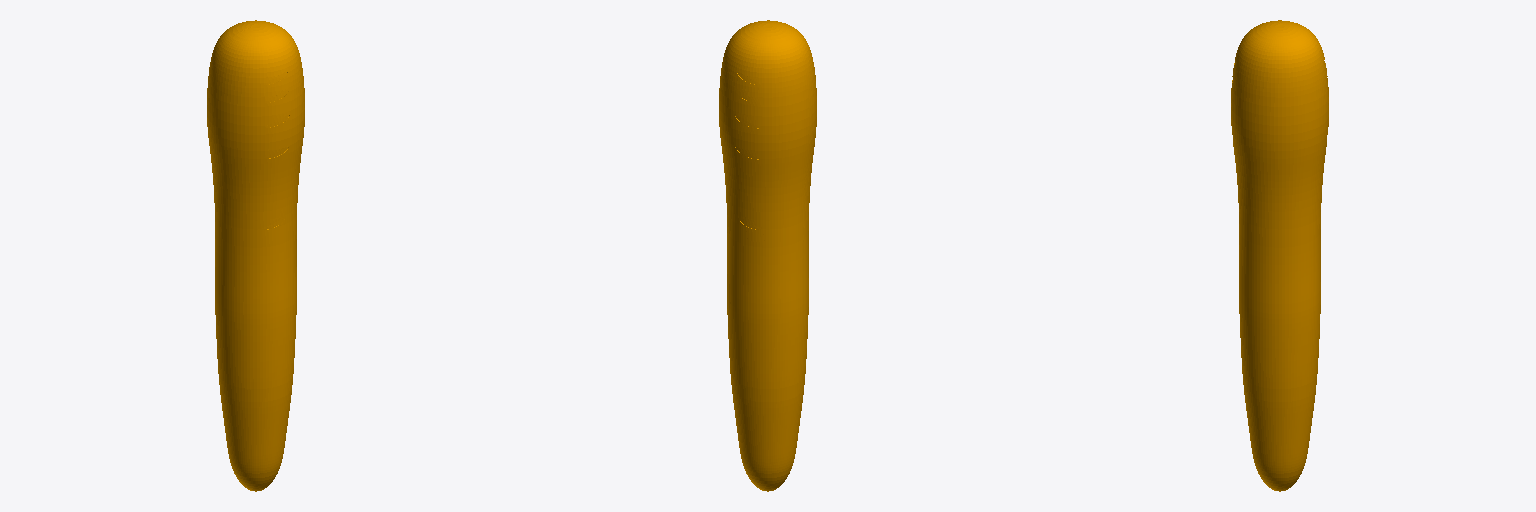
robot.urdf — carrot:
<?xml version="1.0" ?>
<robot name="carrot">

<material name="silver">
  <color rgba="0.93 0.57 0.13 1.000"/>
</material>

<link name="base_link">
  <inertial>
    <origin xyz="1.7822858549785182e-07 -6.088186197117381e-07 0.009575191066925283" rpy="0 0 0"/>
    <mass value="1.9993944571265512"/>
    <inertia ixx="0.002430463493580151" iyy="0.002430544383608829" izz="0.00012003066934899377" ixy="-1.0002093809136705e-09" iyz="4.422827505962783e-08" ixz="-8.059333004212918e-09"/>
  </inertial>
  <visual>
    <origin xyz="0 0 0" rpy="0 0 0"/>
    <geometry>
      <mesh filename="meshes/base_link.stl" scale="0.001 0.001 0.001"/>
    </geometry>
    <material name="silver"/>
    <material/>
  </visual>
  <collision>
    <origin xyz="0 0 0" rpy="0 0 0"/>
    <geometry>
      <mesh filename="meshes/base_link.stl" scale="0.001 0.001 0.001"/>
    </geometry>
    <contact>
    <soft_cfm value="0.0"/>
      <soft_erp value="0.2"/>
  </contact>
  </collision>
</link>

</robot>

--- Facts derived from the render (not from the file) ---
The picture shows the robot from 3 angles, left to right: view 1: azimuth 30°, elevation 25°; view 2: azimuth 150°, elevation 25°; view 3: azimuth 270°, elevation 25°; orthographic projection.
Robot: carrot — 1 links, 0 joints (none); root link base_link; default pose: all joints at 0.
Links seen in each view (by area): view 1: base_link; view 2: base_link; view 3: base_link.
Boxes of the visible links, box(x1,y1,x2,y2) form: base_link: box(207, 20, 304, 491); base_link: box(719, 20, 816, 491); base_link: box(1231, 20, 1328, 491).
Bounding box of the posed robot: 0.0363 × 0.0363 × 0.1886 m (x, y, z).
Meshes: 1 distinct files referenced, 1 mesh visuals loaded (1 binary STL).